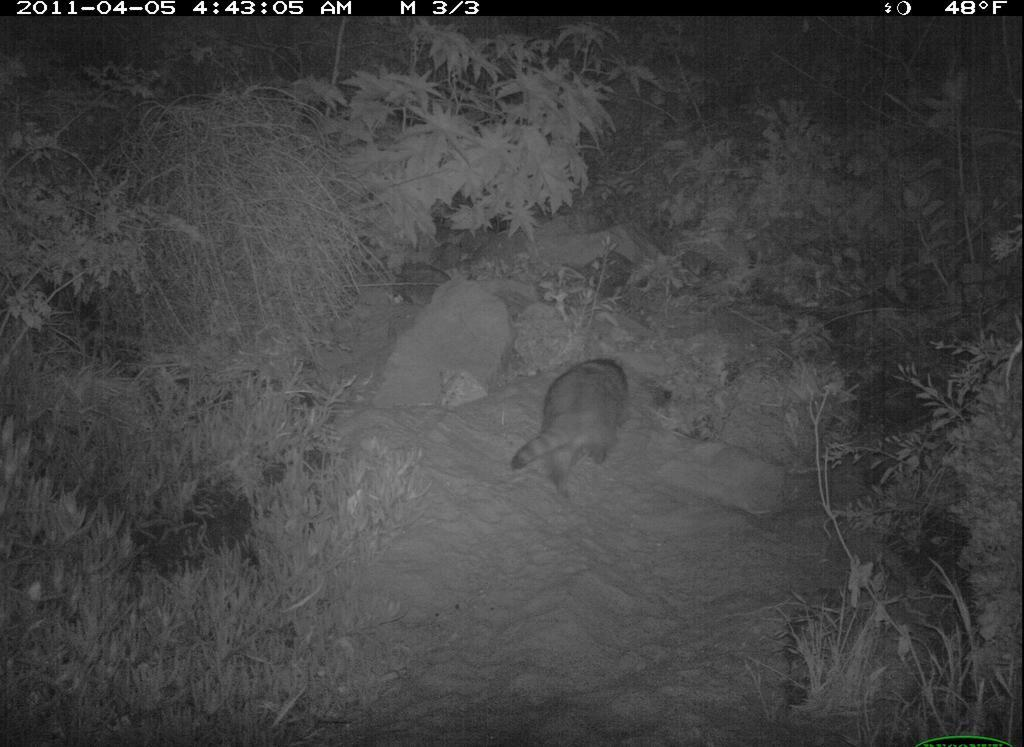raccoon: (506, 344, 639, 502)
